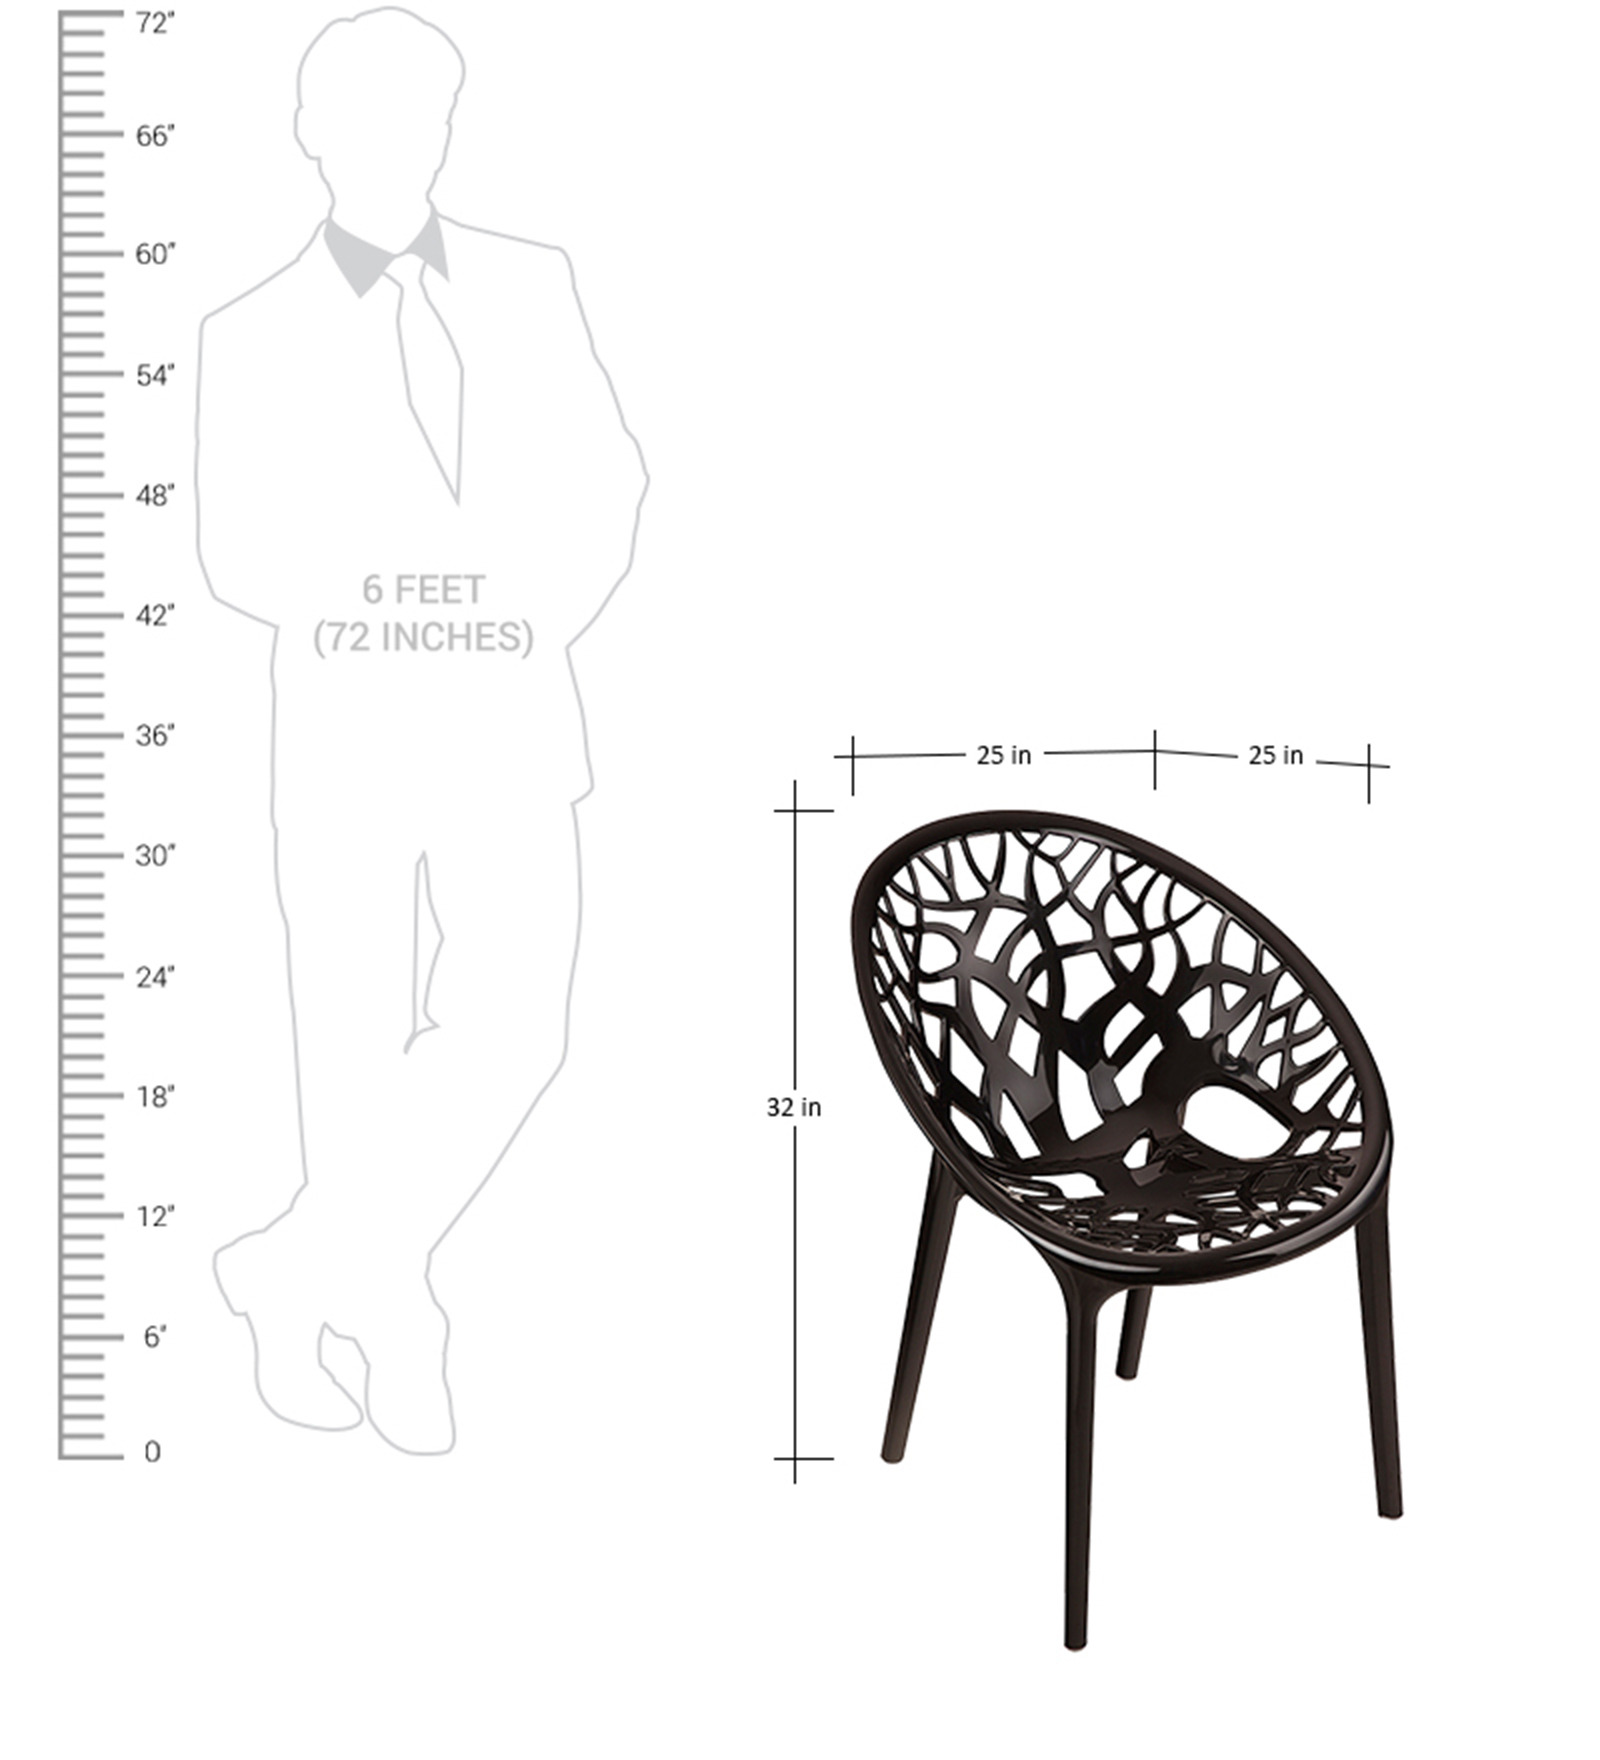Crystal Designer Chair in Black Colour by Nilkamal: (838, 799, 1422, 1660)
